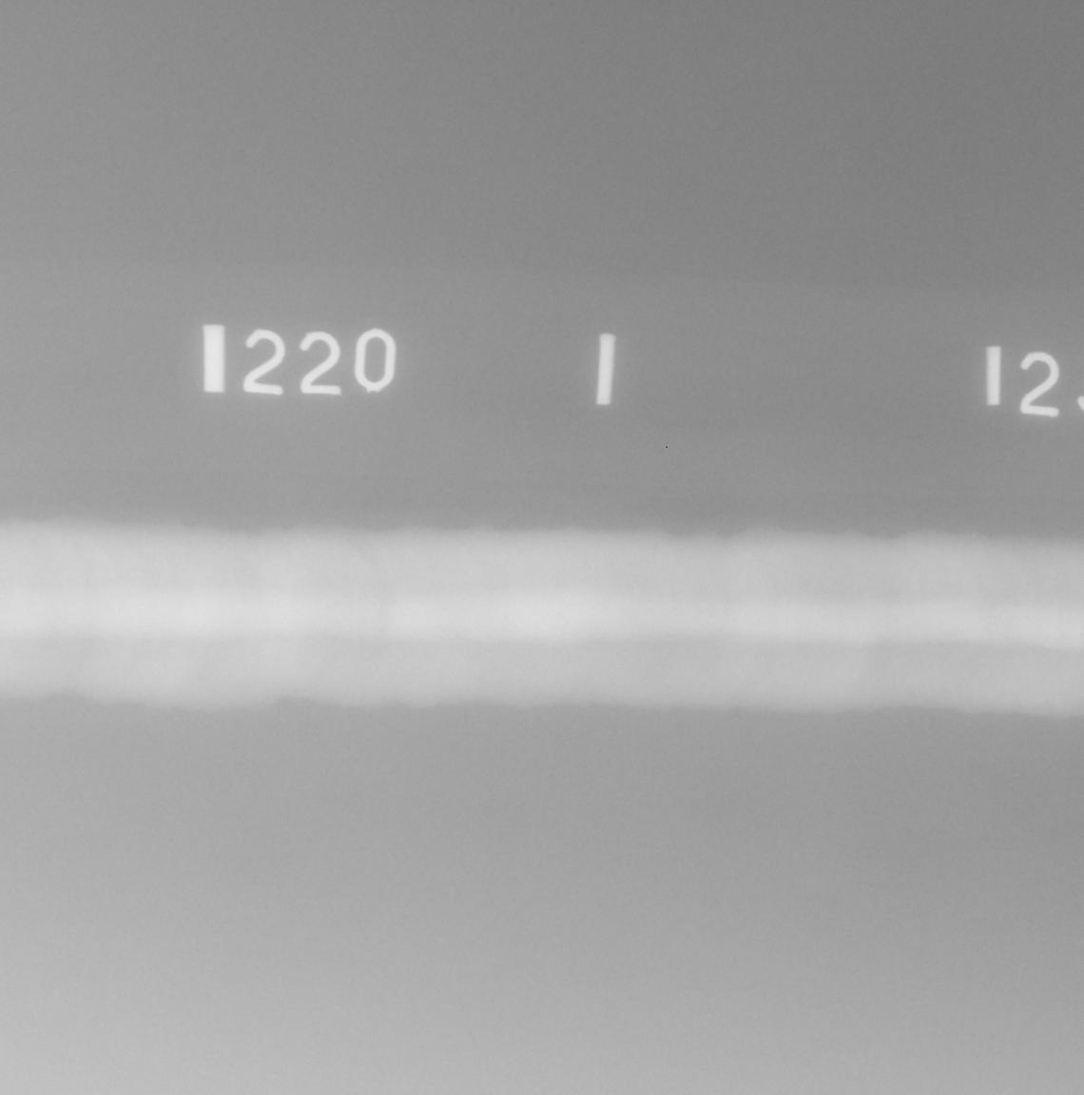Pore/Porosity: (333, 603, 337, 606)
